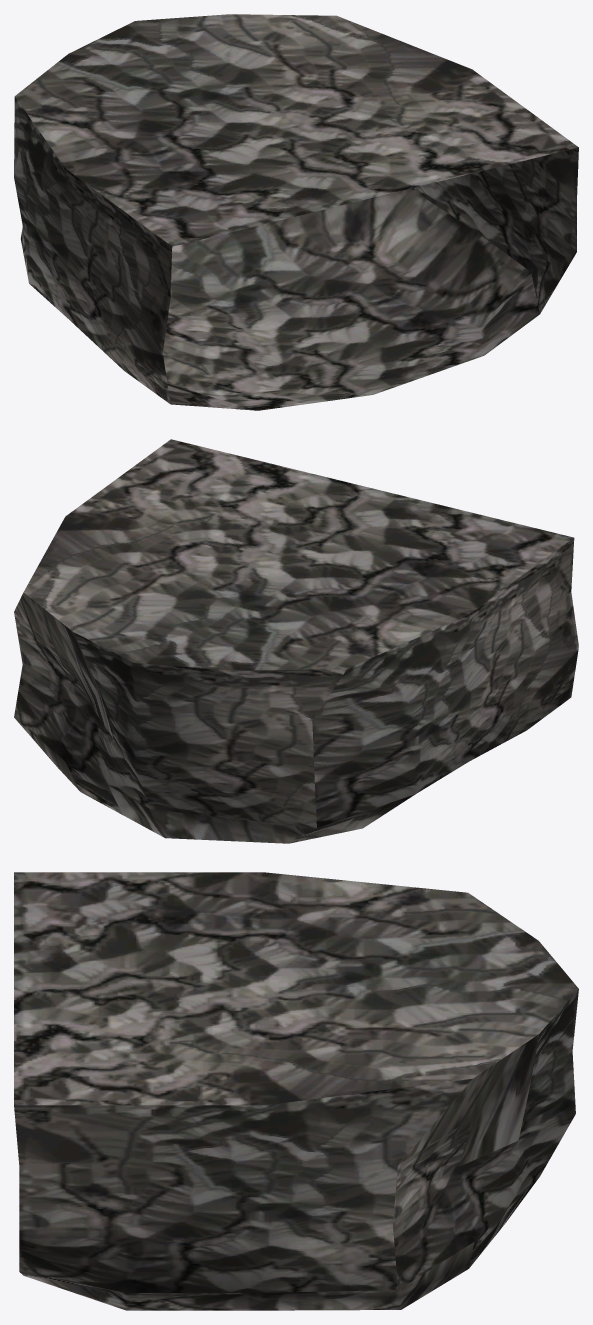
The model's file is INST_SM_LEDGEC.fbx.
3 renders of one model, top to bottom at view 1: azimuth 30°, elevation 25°; view 2: azimuth 150°, elevation 25°; view 3: azimuth 270°, elevation 25°, orthographic. The views are drawn at different scales.
Visible parts, largest first — view 1: INST_SM_LEDGEC; view 2: INST_SM_LEDGEC; view 3: INST_SM_LEDGEC.
Part boxes in pixels (<box>): INST_SM_LEDGEC: <box>14,14,578,410</box>; INST_SM_LEDGEC: <box>14,439,578,843</box>; INST_SM_LEDGEC: <box>14,872,578,1310</box>.
Bounding box in the file's own units: 26472 × 13010 × 26632.
1 material, 1 textured.
